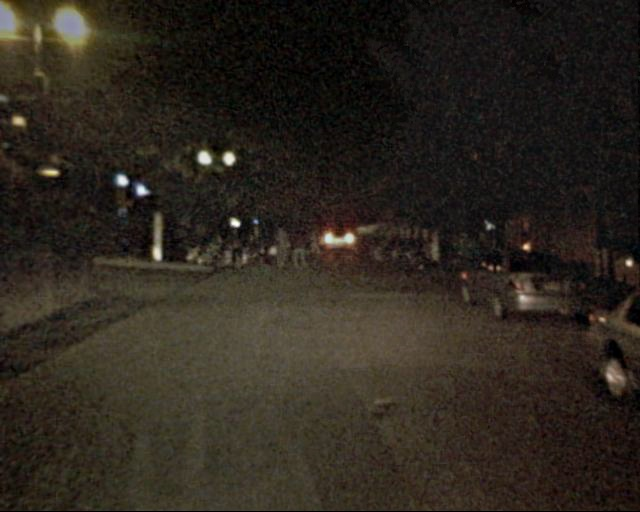person: (227, 223, 248, 273), (272, 222, 293, 268), (289, 224, 309, 272), (252, 222, 272, 264)
